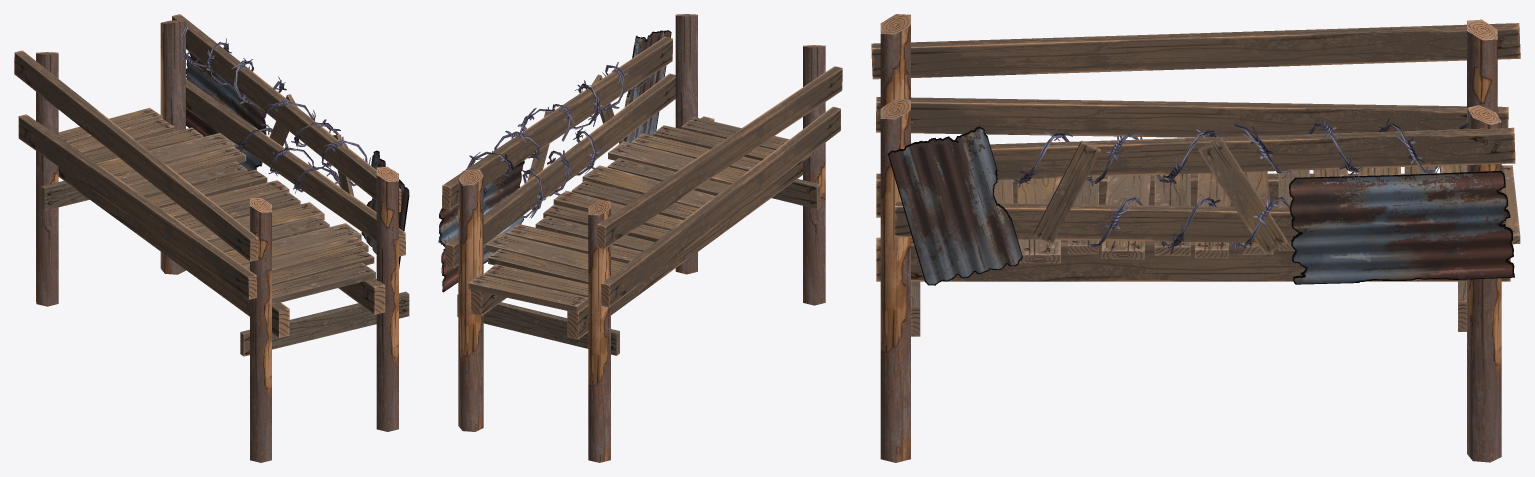
File: fenceWalk_gate_A.FBX
The picture shows the model from 3 angles, left to right: view 1: azimuth 30°, elevation 25°; view 2: azimuth 150°, elevation 25°; view 3: azimuth 270°, elevation 25°; orthographic projection. The views are drawn at different scales.
Parts seen in each view (by area): view 1: fenceWalk_gate_A; view 2: fenceWalk_gate_A; view 3: fenceWalk_gate_A.
Part boxes in pixels (bbox=[...]): fenceWalk_gate_A: bbox=[14, 14, 409, 462]; fenceWalk_gate_A: bbox=[438, 14, 842, 462]; fenceWalk_gate_A: bbox=[871, 14, 1520, 462].
Bounding box in the file's own units: 196 × 264 × 441.
